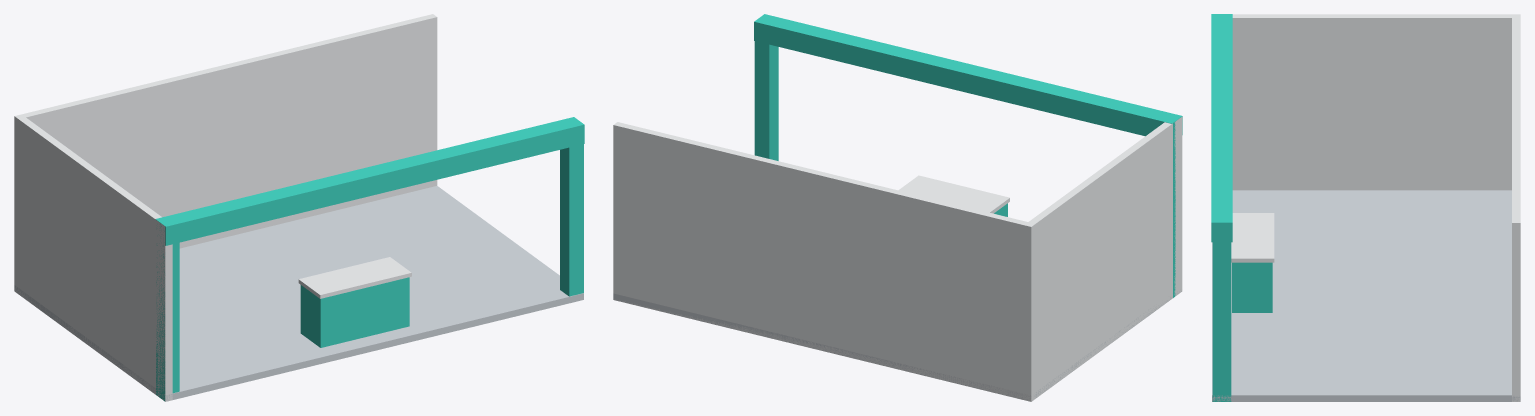
3 views of the same model, side by side, from view 1: azimuth 30°, elevation 25°; view 2: azimuth 150°, elevation 25°; view 3: azimuth 270°, elevation 25° (orthographic). The views are drawn at different scales.
Visible parts, largest first — view 1: Exhibition Booth Concept; view 2: Exhibition Booth Concept; view 3: Exhibition Booth Concept.
Part boxes in pixels (x1,y1,x2,y2): Exhibition Booth Concept: (14, 14, 584, 401); Exhibition Booth Concept: (613, 14, 1182, 401); Exhibition Booth Concept: (1211, 14, 1520, 401).
Size of the model in its own units: 8 by 3.2 by 5.02.
